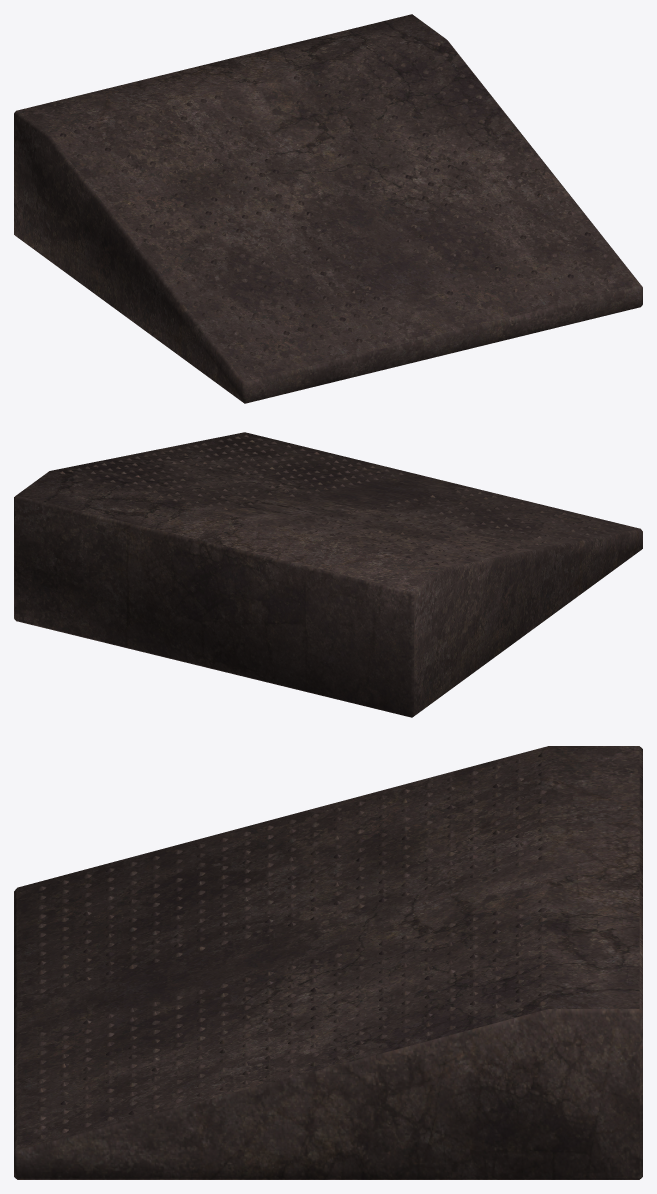
File: SK2 RAMP.fbx
The picture shows the model from 3 angles, top to bottom: view 1: azimuth 30°, elevation 25°; view 2: azimuth 150°, elevation 25°; view 3: azimuth 270°, elevation 25°; orthographic projection. The views are drawn at different scales.
Parts seen in each view (by area): view 1: SK2 RAMP.001; view 2: SK2 RAMP.001; view 3: SK2 RAMP.001.
Part boxes in pixels (x1,y1,x2,y2): SK2 RAMP.001: (14, 14, 642, 403); SK2 RAMP.001: (14, 432, 642, 717); SK2 RAMP.001: (14, 746, 642, 1179).
Size of the model in its own units: 400 by 120 by 400.
